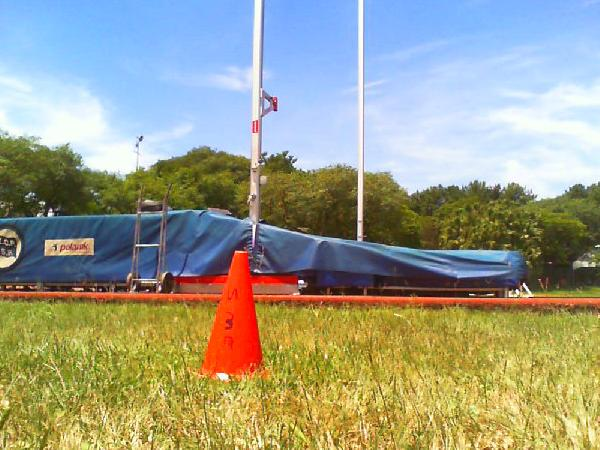0 cone: (194, 251, 271, 382)
